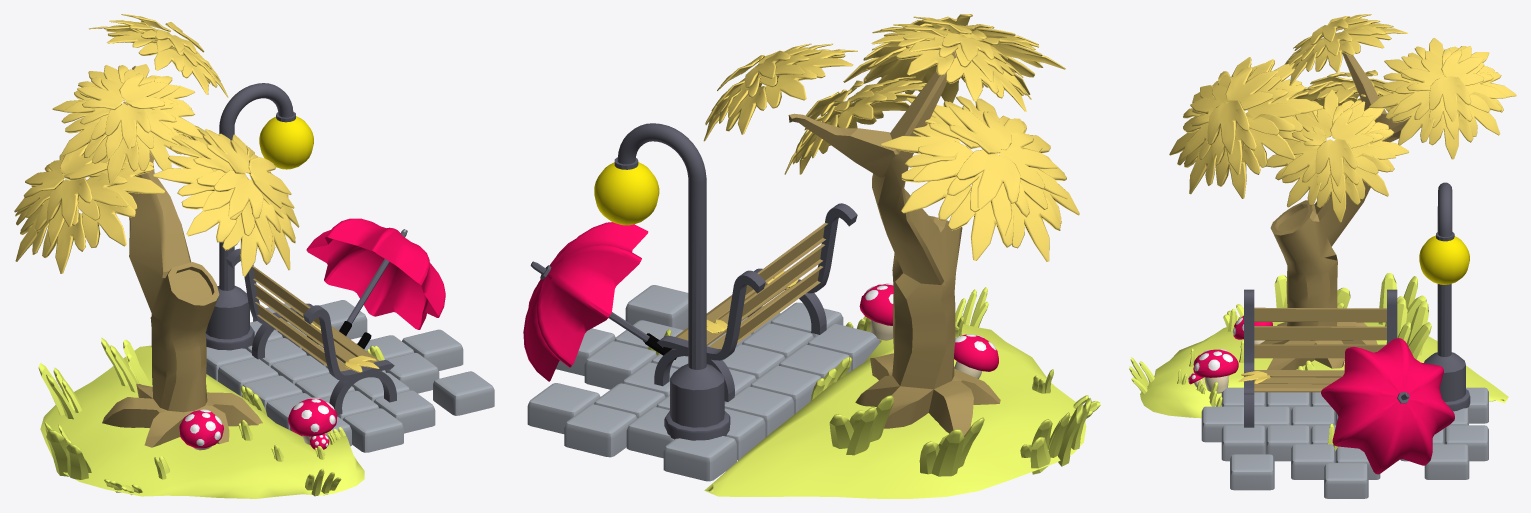
The model's file is benchmodel.fbx.
The picture shows the model from 3 angles, left to right: view 1: azimuth 30°, elevation 25°; view 2: azimuth 150°, elevation 25°; view 3: azimuth 270°, elevation 25°; orthographic projection. The views are drawn at different scales.
Parts seen in each view (by area): view 1: Ground, Tree, Brella, Brick01 (×3), LampPost, Leaf09 (×4), Leaf10 (×4), Leaf18 (×3), Leaf19 (×3), Brick05 (×3), Leaf15 (×3), Brick03 (×3) (+18 smaller); view 2: Ground, Tree, Brella, LampPost, Brick06 (×4), Brick01 (×3), Brick04 (×3), Leaf07 (×4), Brick03 (×3), Brick05 (×3), Leaf17 (×3), Leaf06 (×3) (+23 smaller); view 3: Brella, Tree, Ground, Brick01 (×4), Leaf19 (×4), LampPost, Brick06 (×3), Leaf04 (×4), Leaf05 (×4), Leaf17 (×3), Leaf16 (×4), Leaf12 (×3) (+22 smaller).
Part boxes in pixels (x1=…): Ground: x1=40, y1=345, x2=364, y2=498; Tree: x1=102, y1=66, x2=262, y2=447; Brella: x1=306, y1=218, x2=445, y2=329; Brick01 (×3): x1=343, y1=371, x2=494, y2=452; LampPost: x1=205, y1=83, x2=295, y2=350; Leaf09 (×4): x1=42, y1=43, x2=237, y2=273; Leaf10 (×4): x1=82, y1=55, x2=270, y2=276; Leaf18 (×3): x1=46, y1=103, x2=263, y2=226; Leaf19 (×3): x1=59, y1=73, x2=291, y2=208; Brick05 (×3): x1=206, y1=329, x2=463, y2=381; Leaf15 (×3): x1=78, y1=107, x2=280, y2=252; Brick03 (×3): x1=242, y1=352, x2=439, y2=410; Ground: x1=704, y1=316, x2=1086, y2=498; Tree: x1=788, y1=52, x2=1000, y2=435; Brella: x1=523, y1=222, x2=648, y2=381; LampPost: x1=614, y1=123, x2=730, y2=440; Brick06 (×4): x1=527, y1=383, x2=736, y2=481; Brick01 (×3): x1=625, y1=285, x2=879, y2=370; Brick04 (×3): x1=584, y1=341, x2=794, y2=437; Leaf07 (×4): x1=765, y1=57, x2=1013, y2=260; Brick03 (×3): x1=614, y1=320, x2=821, y2=414; Brick05 (×3): x1=556, y1=328, x2=765, y2=460; Leaf17 (×3): x1=744, y1=33, x2=1020, y2=209; Leaf06 (×3): x1=726, y1=47, x2=971, y2=220; Brella: x1=1321, y1=338, x2=1454, y2=474; Tree: x1=1260, y1=52, x2=1409, y2=369; Ground: x1=1140, y1=322, x2=1508, y2=418; Brick01 (×4): x1=1201, y1=387, x2=1274, y2=490; Leaf19 (×4): x1=1207, y1=18, x2=1471, y2=186; LampPost: x1=1424, y1=182, x2=1470, y2=411; Brick06 (×3): x1=1424, y1=387, x2=1488, y2=479; Leaf04 (×4): x1=1216, y1=40, x2=1473, y2=222; Leaf05 (×4): x1=1243, y1=25, x2=1501, y2=199; Leaf17 (×3): x1=1225, y1=50, x2=1484, y2=148; Leaf16 (×4): x1=1212, y1=31, x2=1472, y2=202; Leaf12 (×3): x1=1245, y1=73, x2=1506, y2=174.
Bounding box in the file's own units: 10.24 × 8.34 × 8.69.
